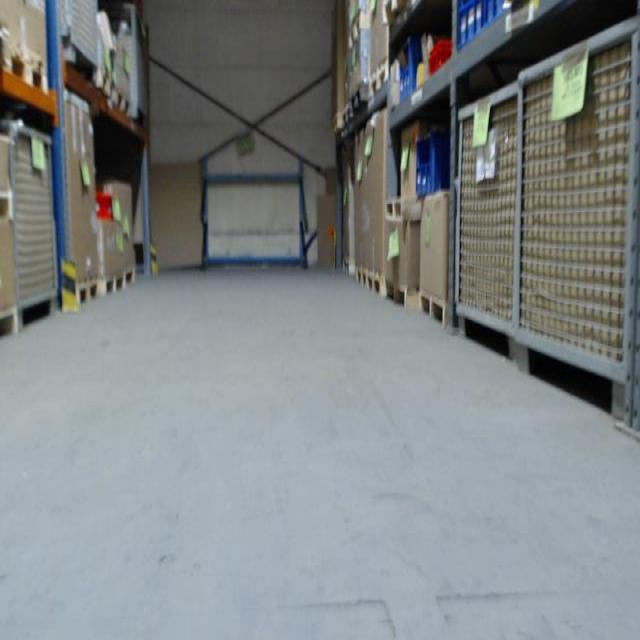pallet: (1, 36, 49, 99), (352, 59, 390, 114), (385, 280, 419, 311), (419, 293, 450, 325), (74, 276, 103, 304), (0, 307, 18, 340), (367, 274, 389, 296), (102, 275, 125, 296), (114, 89, 131, 117), (384, 200, 404, 222), (355, 269, 370, 285), (342, 106, 353, 126)
small_load_carrier: (397, 33, 427, 99), (414, 137, 449, 193), (458, 0, 484, 44), (480, 3, 511, 38)
stillage: (517, 9, 638, 437), (454, 69, 524, 368), (2, 107, 62, 341), (58, 2, 106, 83)
